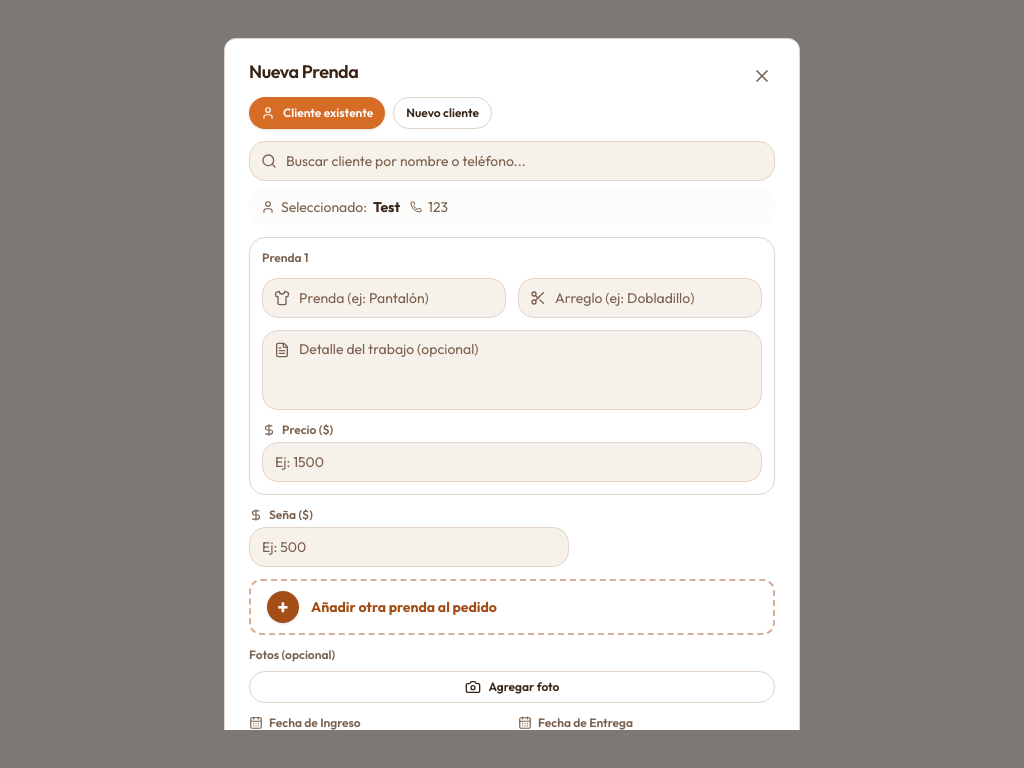
Bug A3 — suggestions array sincronizado al eliminar item › [A3] eliminar item del medio no hereda sugerencias del anterior
Note: Añadir 2 items más (total 3)
Click the button "+ Añadir otra prenda al pedido" at (283, 607), box [249,579,775,635]
(page scrolled)
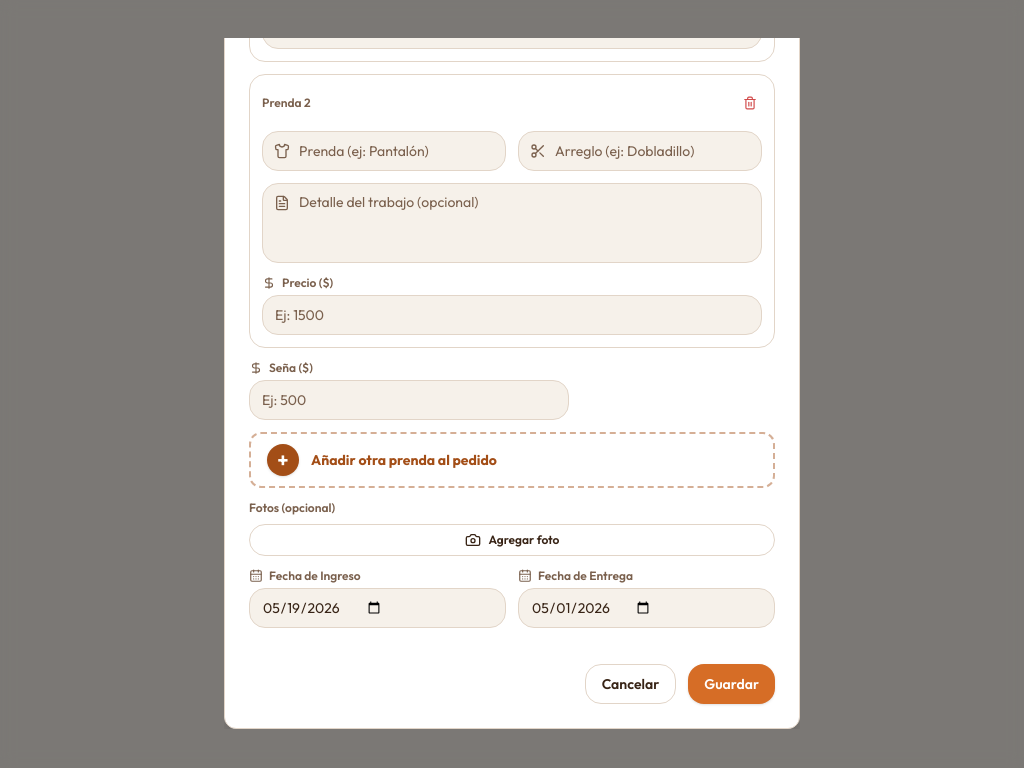
Click the button "+ Añadir otra prenda al pedido" at (283, 460), box [249,432,775,488]
(page scrolled)
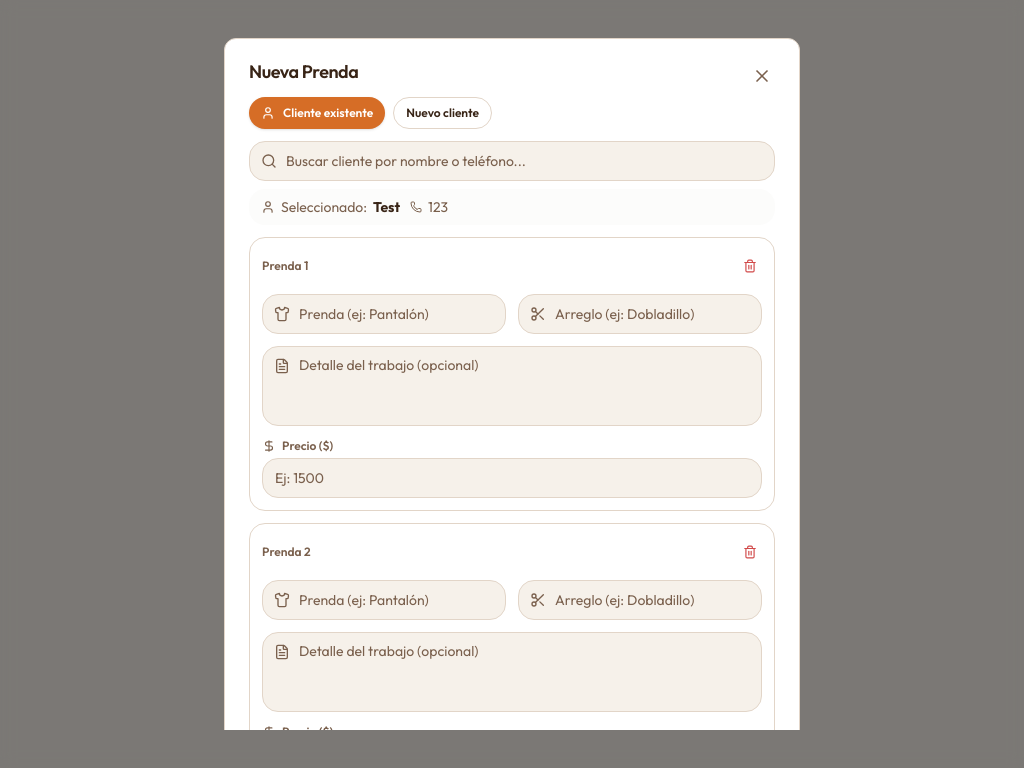
Now the number of fields with placeholder "Prenda (ej: Pantalón)" is 3
Note: Item[0]: "pantalon" → genera sugerencias de dobladillo
Type "pantalon" into the 1st field with placeholder "Prenda (ej: Pantalón)" at (384, 314), box [262,294,506,334]
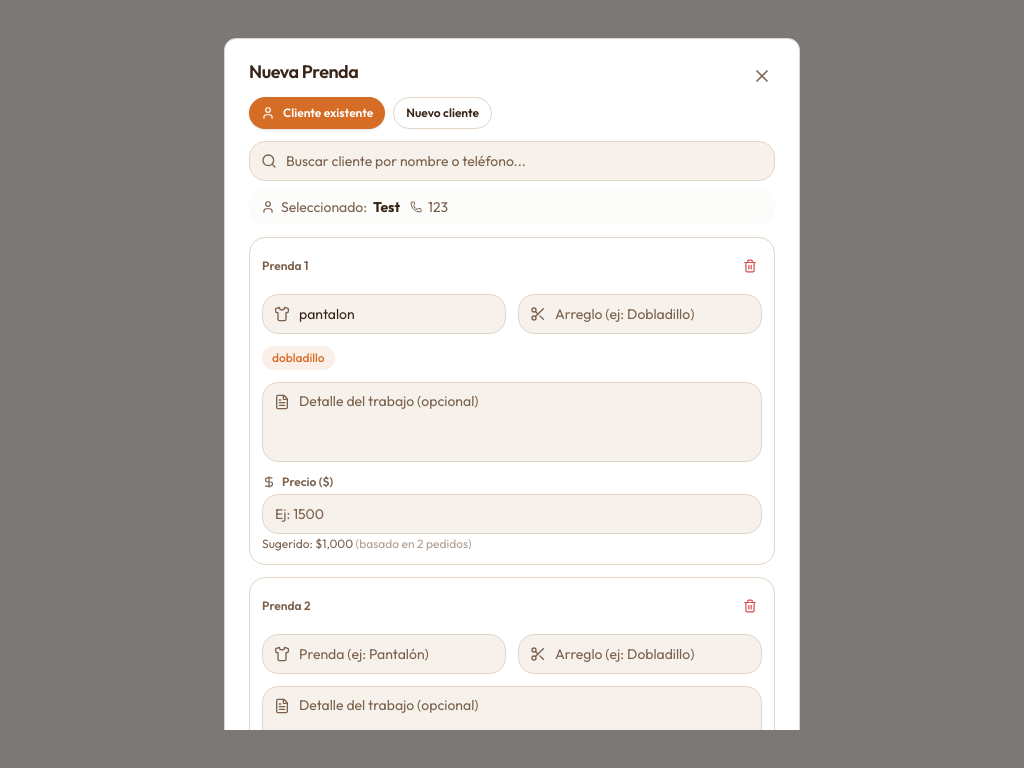
Note: Item[1]: "camisa" → genera sugerencias de cierre
Type "camisa" into the field with placeholder "Prenda (ej: Pantalón)" at (384, 654), box [262,634,506,674]
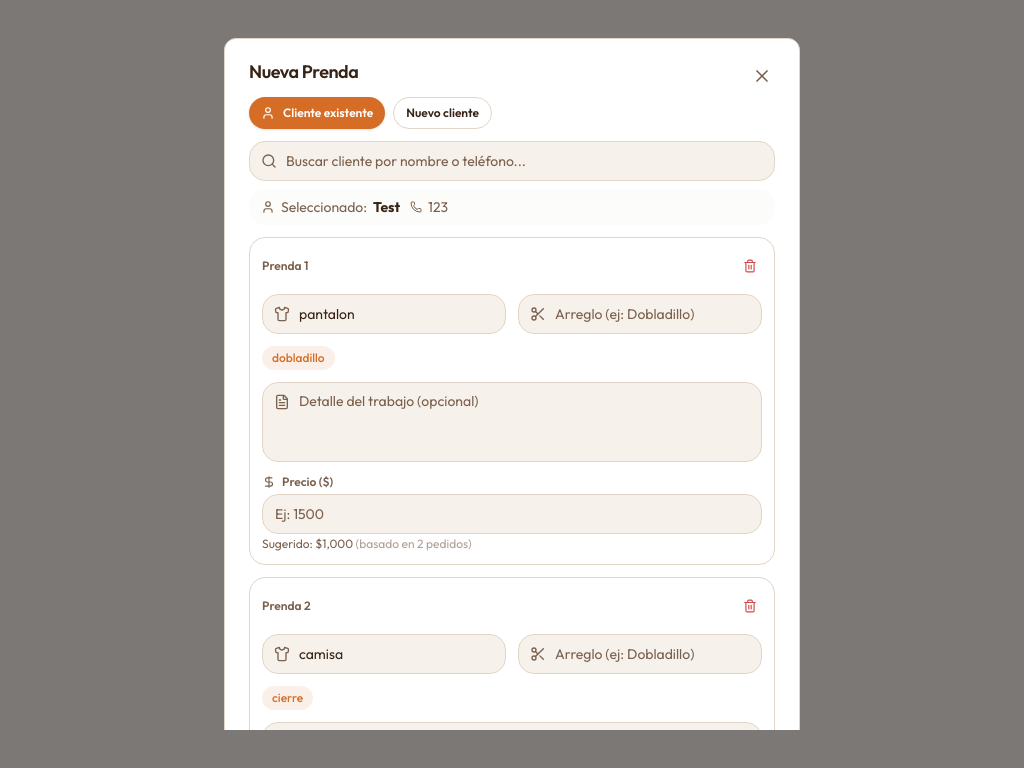
Note: Eliminar item[1] (el de camisa/cierre)
Click the 2nd button named "eliminar prenda" at (750, 606), box [738,590,762,622]
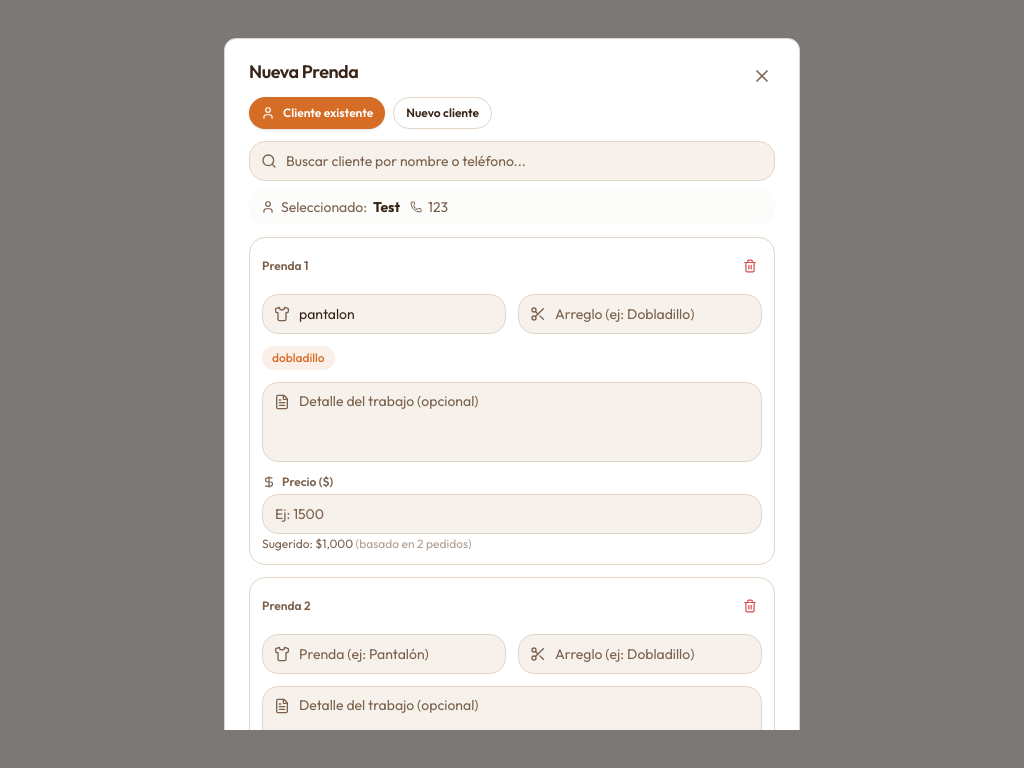
Now no buttons "cierre" are shown
